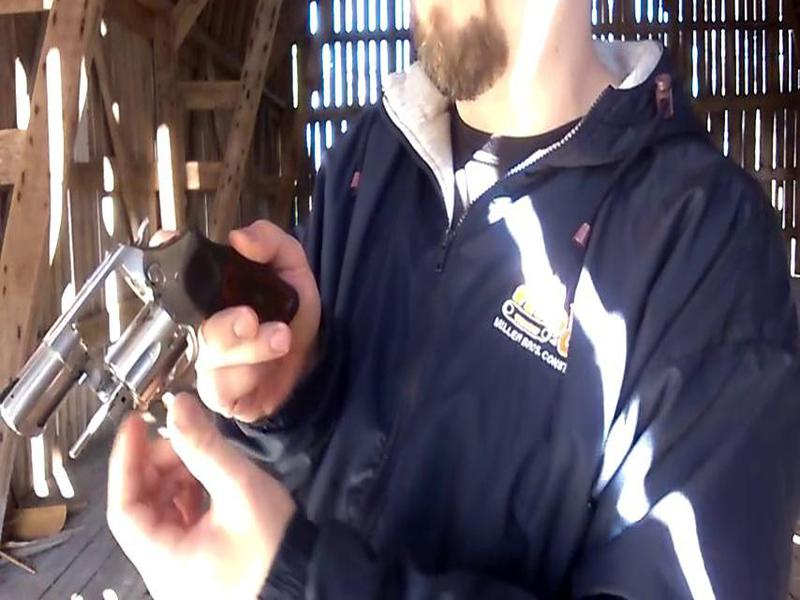Revolver: (3, 213, 297, 470)
